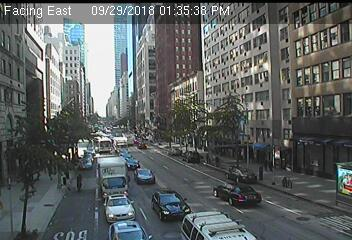car: (181, 212, 256, 240), (95, 158, 131, 198), (152, 190, 192, 221), (213, 182, 261, 207), (103, 195, 139, 223), (109, 220, 151, 240), (225, 168, 258, 184), (94, 136, 113, 155), (134, 168, 155, 184), (113, 136, 129, 153), (181, 151, 201, 164), (125, 158, 140, 170), (79, 158, 93, 169), (117, 151, 133, 160), (167, 148, 182, 155), (83, 154, 93, 162), (137, 142, 146, 149)
